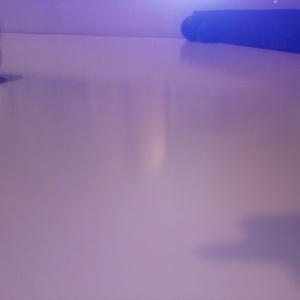dead_ball: (180, 14, 203, 41), (195, 19, 216, 43)
